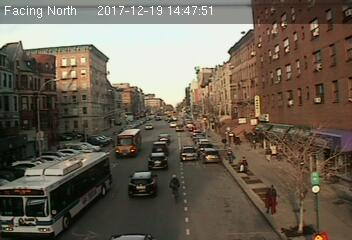bicycle: (167, 173, 182, 205)
bus: (1, 149, 107, 239)
car: (126, 170, 159, 198), (146, 152, 168, 169), (199, 146, 220, 163), (180, 145, 197, 161), (150, 140, 168, 154), (157, 133, 171, 141), (174, 124, 184, 131)
pedestrian: (239, 155, 248, 174)
truck: (115, 127, 142, 156)
